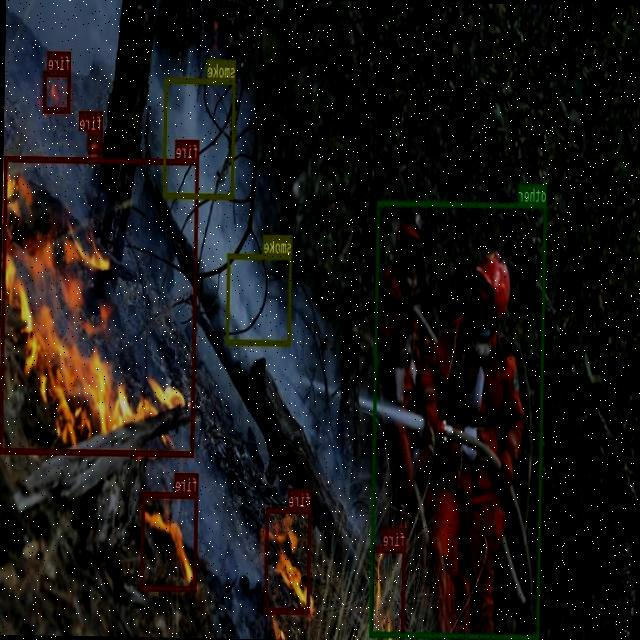fire: (0, 154, 199, 454), (140, 490, 198, 590), (265, 506, 312, 613), (370, 544, 406, 636), (43, 70, 71, 112), (89, 130, 102, 152)
smoke: (163, 76, 236, 198), (226, 252, 293, 344)
